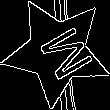M_SW: (24, 18, 90, 84)
